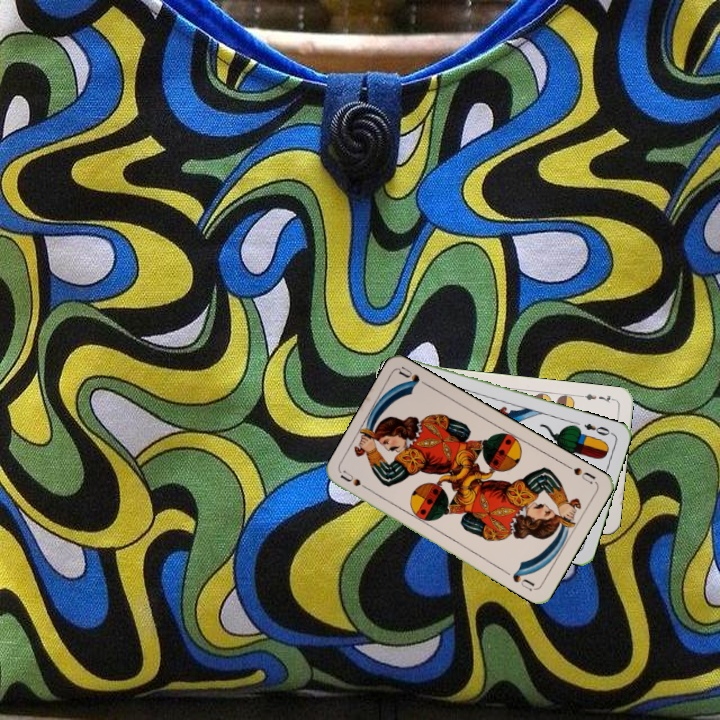E7: (577, 390, 618, 405)
EO: (580, 419, 615, 438)
SU: (337, 466, 375, 495), (561, 460, 598, 487)
